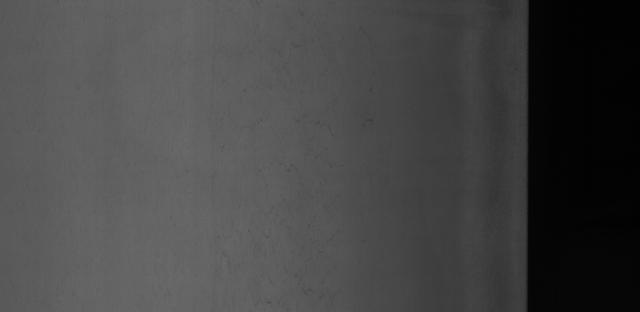silk_spot: (194, 109, 369, 275)
